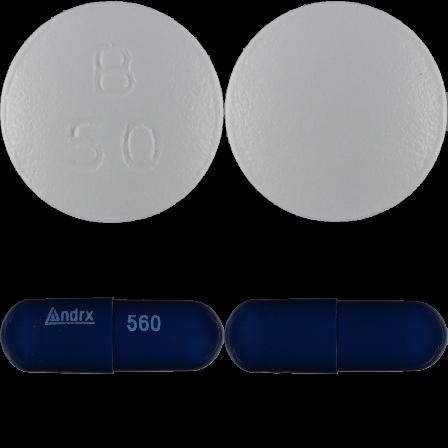0904-6019: (0, 0, 224, 224)
